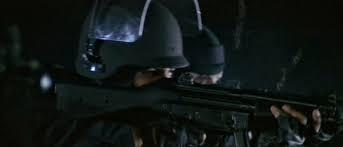rifle: (52, 74, 343, 146)
